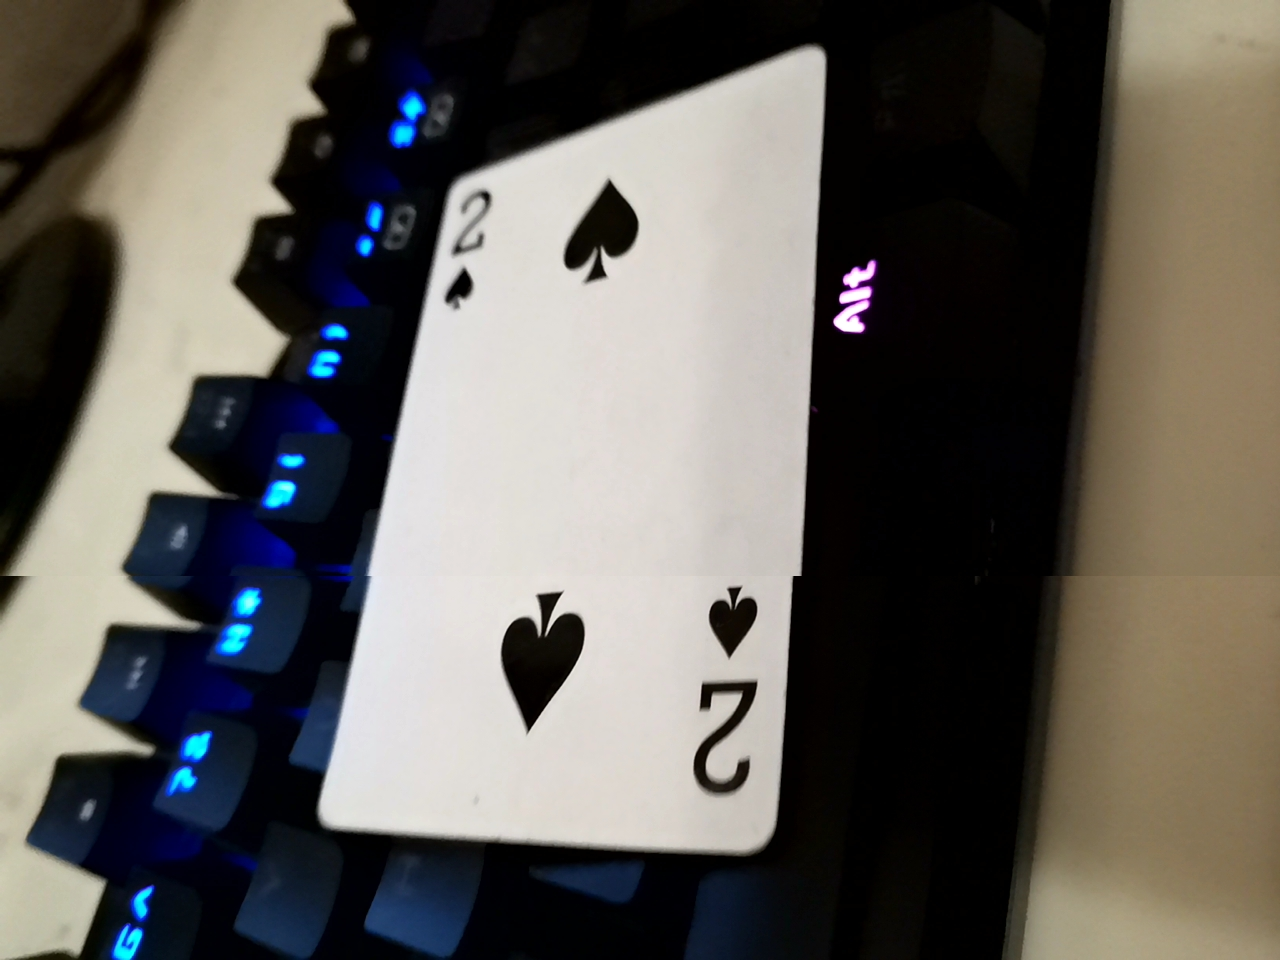ht 2: (340, 65, 822, 871)
